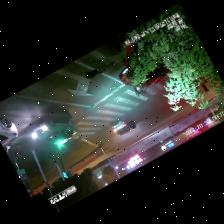person: (85, 61, 115, 77)
